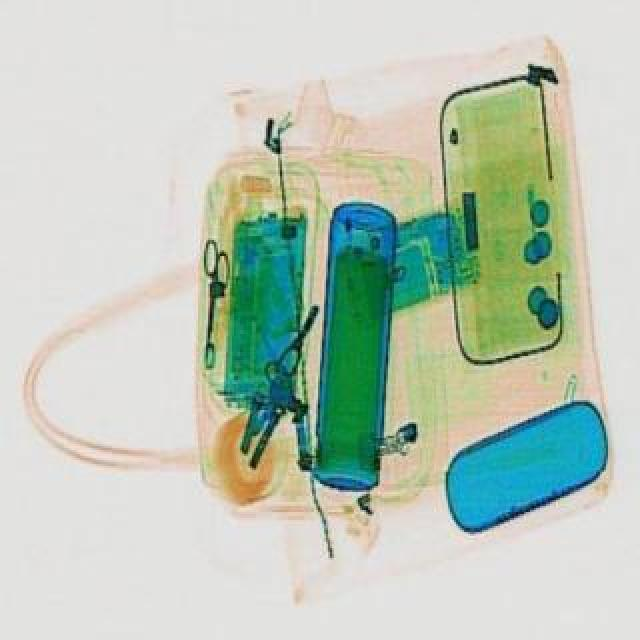pliers: (190, 236, 234, 362)
